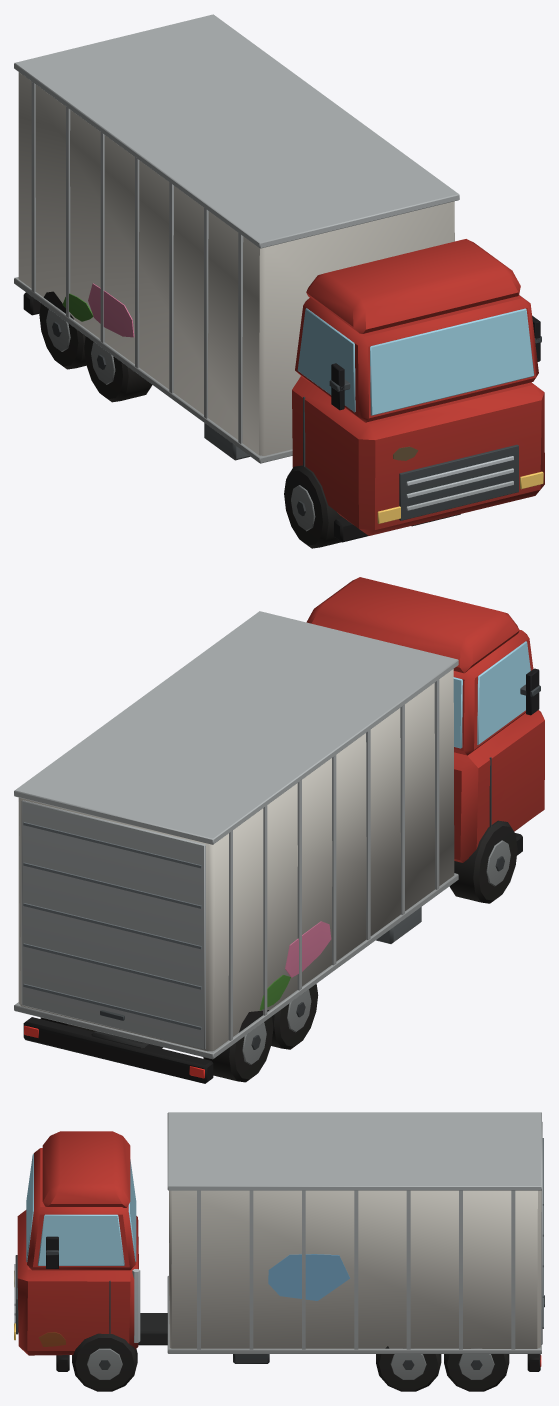
Rendered from 20_camion_porteur.fbx.
3 renders of one model, top to bottom at view 1: azimuth 30°, elevation 25°; view 2: azimuth 150°, elevation 25°; view 3: azimuth 270°, elevation 25°, orthographic. The views are drawn at different scales.
Visible parts, largest first — view 1: Caisse, Cabine, Vitres, Roue_AvD, Roue_Ar1D, Roue_Ar2D, Chassis, Phares; view 2: Caisse, PorteArriere, Cabine, Chassis, Vitres, Roue_AvD, Roue_Ar2D, Roue_Ar1D; view 3: Caisse, Cabine, Vitres, Roue_AvG, Chassis, Roue_Ar1G, Roue_Ar2G, PorteArriere.
Boxes of the visible parts, x1,y1,x2,y2 form: Caisse: (14, 14, 459, 463); Cabine: (292, 239, 544, 535); Vitres: (297, 295, 534, 415); Roue_AvD: (284, 465, 342, 548); Roue_Ar1D: (84, 336, 152, 402); Roue_Ar2D: (39, 291, 86, 369); Chassis: (23, 292, 460, 542); Phares: (377, 471, 543, 523); Caisse: (14, 611, 458, 1059); PorteArriere: (21, 800, 205, 1049); Cabine: (306, 577, 544, 862); Chassis: (23, 833, 522, 1083); Vitres: (453, 641, 530, 748); Roue_AvD: (449, 820, 517, 903); Roue_Ar2D: (203, 1010, 273, 1082); Roue_Ar1D: (271, 984, 318, 1049); Caisse: (167, 1112, 541, 1353); Cabine: (14, 1131, 138, 1355); Vitres: (26, 1154, 136, 1265); Roue_AvG: (72, 1333, 137, 1391); Chassis: (56, 1269, 540, 1371); Roue_Ar1G: (376, 1346, 441, 1391); Roue_Ar2G: (444, 1348, 509, 1391); PorteArriere: (541, 1122, 544, 1344).
Size of the model in its own units: 1.93 by 2.46 by 5.71.
1 material, 1 textured.
